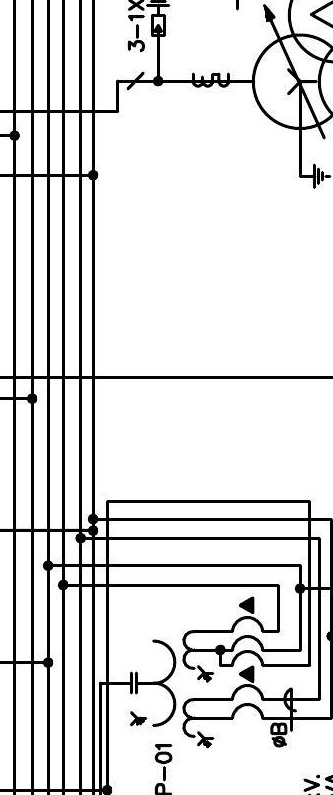115_cvt_3p: (130, 629, 215, 749)
